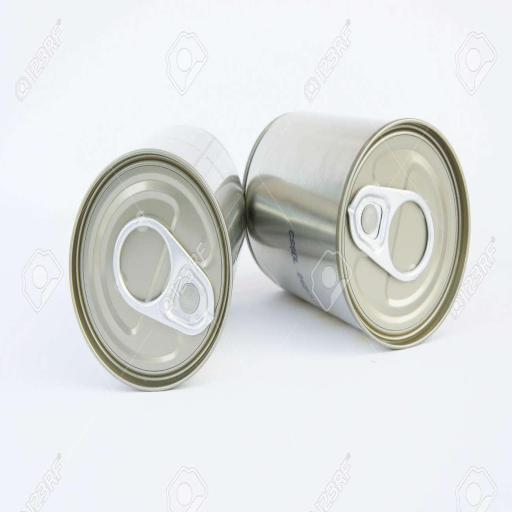can: (241, 108, 472, 353), (72, 126, 241, 391)
pop tab: (112, 214, 216, 336), (348, 182, 433, 286)
